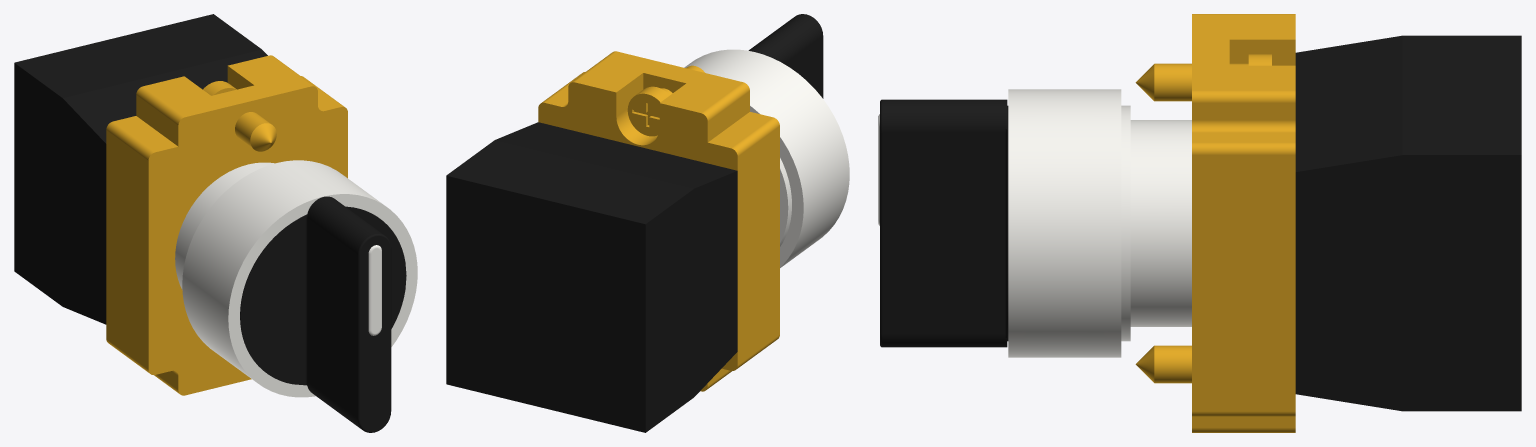
File: CHAVE SELETORA v0.fbx
3 renders of one model, left to right at view 1: azimuth 30°, elevation 25°; view 2: azimuth 150°, elevation 25°; view 3: azimuth 270°, elevation 25°, orthographic. The views are drawn at different scales.
Visible parts, largest first — view 1: Body5, Body8, Body2, Body1, Body4, Body6, Body9; view 2: Body8, Body5, Body1, Body2, Body6, Body3; view 3: Body8, Body5, Body2, Body1, Body4, Body3, Body6, Body7.
Part boxes in pixels (x1=…): Body5: x1=106, y1=55, x2=347, y2=395; Body8: x1=14, y1=14, x2=267, y2=324; Body2: x1=240, y1=196, x2=406, y2=432; Body1: x1=182, y1=160, x2=417, y2=397; Body4: x1=175, y1=162, x2=274, y2=289; Body6: x1=203, y1=81, x2=276, y2=151; Body9: x1=368, y1=245, x2=381, y2=335; Body8: x1=446, y1=122, x2=737, y2=432; Body5: x1=538, y1=51, x2=779, y2=391; Body1: x1=684, y1=49, x2=849, y2=267; Body2: x1=748, y1=14, x2=823, y2=98; Body6: x1=627, y1=65, x2=704, y2=136; Body3: x1=780, y1=158, x2=791, y2=246; Body8: x1=1295, y1=35, x2=1521, y2=411; Body5: x1=1192, y1=14, x2=1295, y2=432; Body2: x1=880, y1=99, x2=1008, y2=347; Body1: x1=1008, y1=89, x2=1121, y2=357; Body4: x1=1130, y1=120, x2=1191, y2=326; Body3: x1=1121, y1=105, x2=1130, y2=341; Body6: x1=1135, y1=54, x2=1271, y2=101; Body7: x1=1135, y1=345, x2=1191, y2=383.
Size of the model in its own units: 30 by 40 by 68.3.
